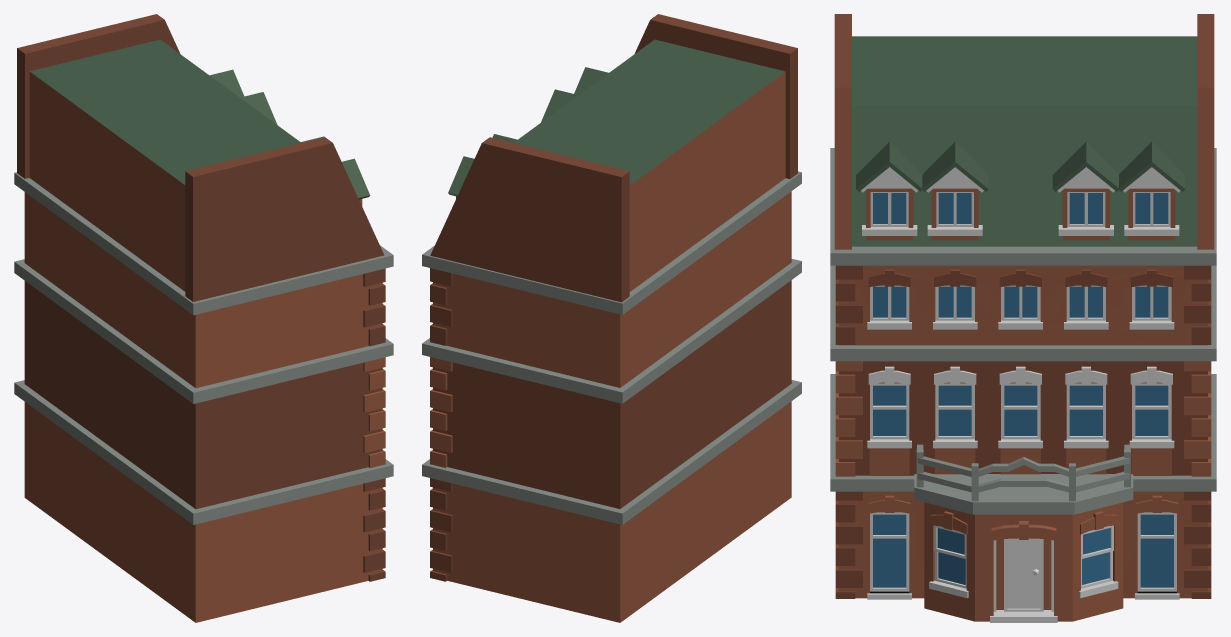
Rendered from House5.gltf.
3 views of the same model, side by side, from view 1: azimuth 30°, elevation 25°; view 2: azimuth 150°, elevation 25°; view 3: azimuth 270°, elevation 25° (orthographic). The views are drawn at different scales.
Parts seen in each view (by area): view 1: House5; view 2: House5; view 3: House5.
Part boxes in pixels (x1,y1,x2,y2): House5: [14, 14, 393, 622]; House5: [422, 14, 801, 622]; House5: [830, 14, 1216, 622].
Size of the model in its own units: 8.09 by 14 by 10.14.
2 materials, 1 textured.
